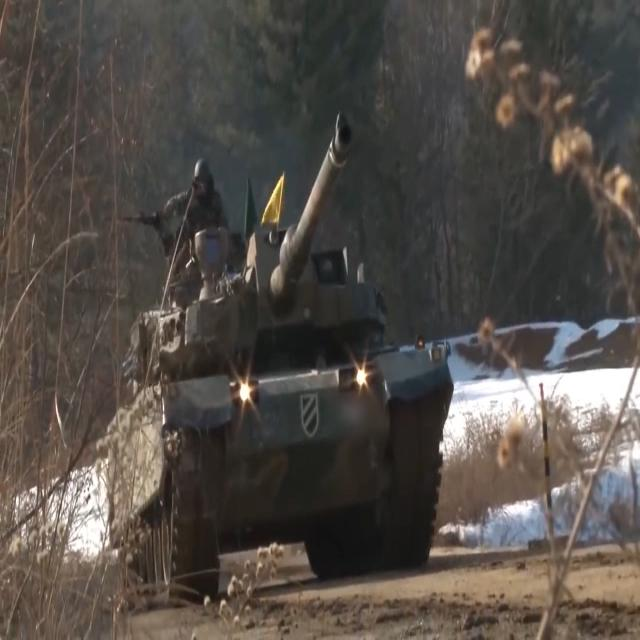korea tank: (104, 105, 456, 611)
